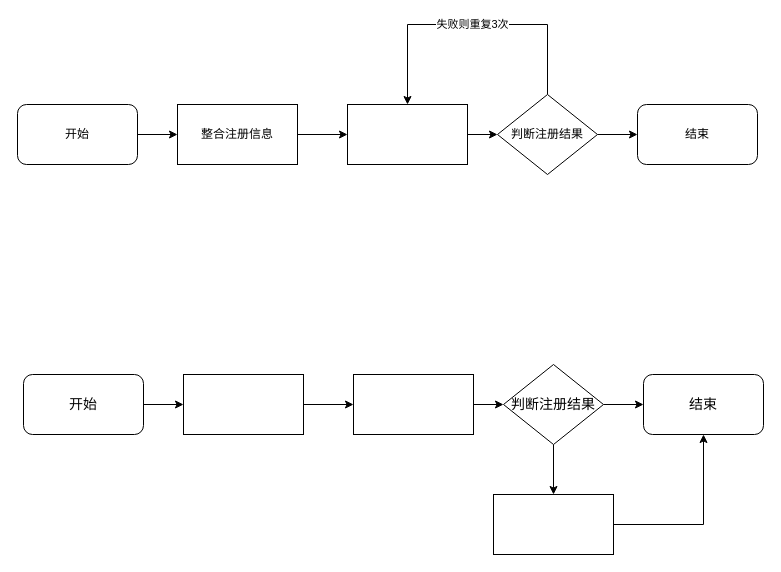
The diagram is 781 pixels wide and 572 high, and some of its shapes have lost their labels. Each missing label, with the centre of its shape:
低代码平台 界面导入: (x=413, y=404)
失败提示: (x=553, y=524)
插件包: (x=243, y=404)
调低代码平台注册API: (x=407, y=134)
